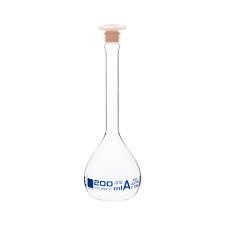Volumetric flask: (69, 14, 147, 205)
